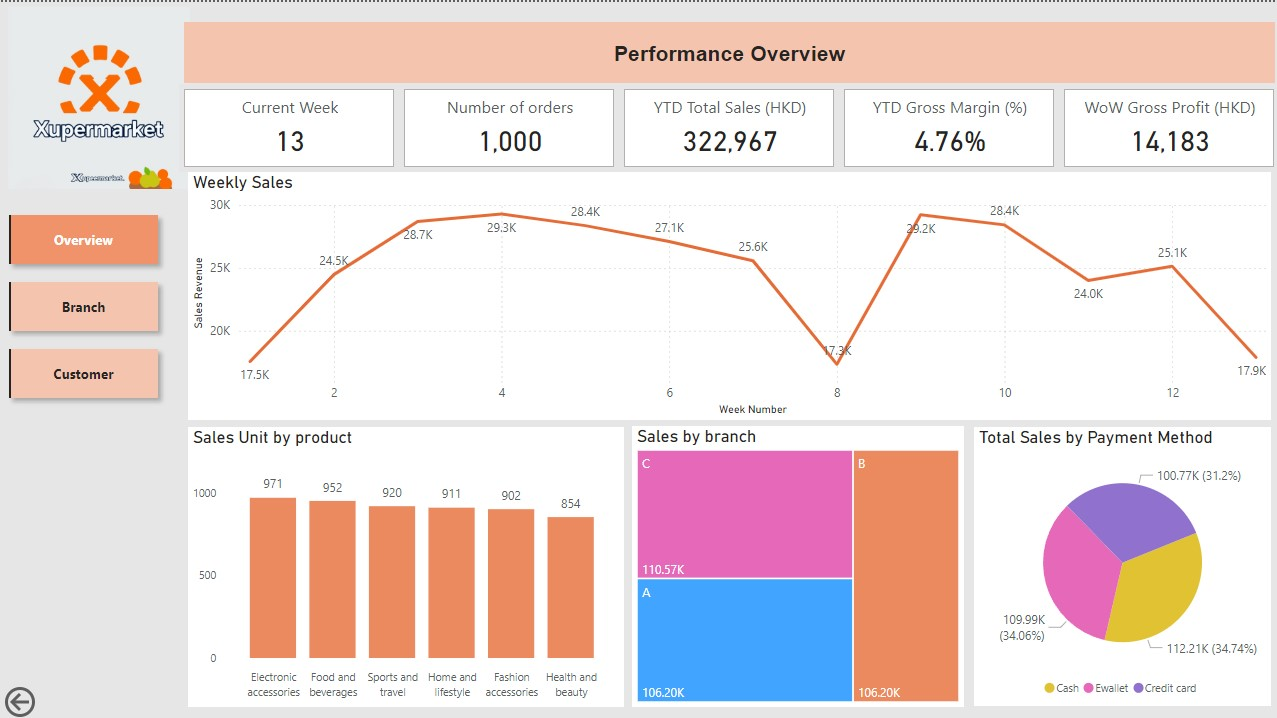

Layout of this report page (visuals, bound fields, positions):
{"tool":"powerbi","page":{"name":"Overview","canvas":[1280,720],"ordinal":0},"visuals":[{"type":"image","box":[0,0,198.2,192.3],"z":0},{"type":"actionButton","box":[0,680.1,99.7,39.9],"z":1},{"type":"lineChart","title":"Weekly Sales","fields":{"Category":["transformed_data_csv.week_number"],"Y":["Sum(transformed_data_csv.total)"]},"box":[187.7,169.6,1083.6,248.5],"z":2},{"type":"pageNavigator","box":[0,204,166.5,202.9],"z":3},{"type":"columnChart","title":"Sales Unit by product","fields":{"Category":["transformed_data_csv.product_line"],"Y":["Sum(transformed_data_csv.quantity)"]},"box":[187.7,425.3,436.2,279.3],"z":4},{"type":"cardVisual","fields":{"Data":["Max(transformed_data_csv.week_number)","Count(transformed_data_csv.invoice_id)","Sum(transformed_data_csv.total)","transformed_data_csv.gross_margin_percent","transformed_data_csv.WoW_gross_income"]},"box":[178.9,82.1,1101.1,87.9],"z":5},{"type":"pieChart","title":"Total Sales by Payment Method","fields":{"Category":["transformed_data_csv.payment_method"],"Y":["Sum(transformed_data_csv.total)"]},"box":[973.9,425.3,297.4,278.4],"z":6},{"type":"textbox","box":[184.1,19.9,1090.6,61],"z":7},{"type":"treemap","title":"Sales by branch","fields":{"Group":["transformed_data_csv.branch"],"Values":["Sum(transformed_data_csv.total)"]},"box":[632.1,424.5,331.9,280.3],"z":8}]}

Visuals, with their boxes in screenshot pixels (x1, y1, x2, y2), scaled from the page's 1280x720 canvas onto the 1277x718 screenshot:
image: (x1=0, y1=0, x2=198, y2=192)
actionButton: (x1=0, y1=678, x2=99, y2=717)
"Weekly Sales" lineChart: (x1=187, y1=169, x2=1268, y2=417)
pageNavigator: (x1=0, y1=203, x2=166, y2=406)
"Sales Unit by product" columnChart: (x1=187, y1=424, x2=622, y2=703)
cardVisual - Max(transformed_data_csv.week_number) x Count(transformed_data_csv.invoice_id): (x1=178, y1=82, x2=1276, y2=170)
"Total Sales by Payment Method" pieChart: (x1=972, y1=424, x2=1268, y2=702)
textbox: (x1=184, y1=20, x2=1272, y2=81)
"Sales by branch" treemap: (x1=631, y1=423, x2=962, y2=703)
